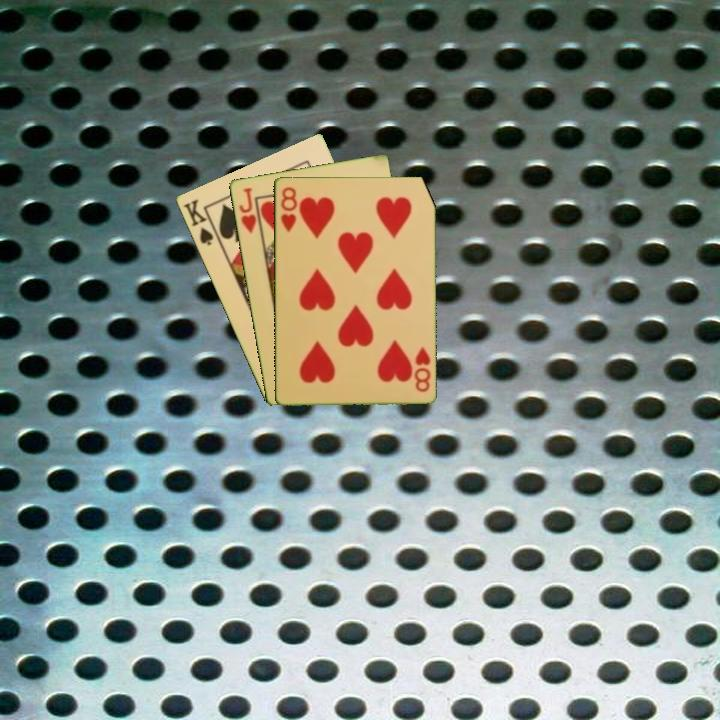8h: (410, 343, 433, 394), (277, 184, 300, 234)
Jh: (235, 184, 264, 238)
Ks: (180, 195, 222, 248)
